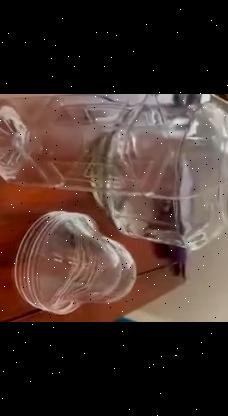Plastic Bottle: (0, 94, 228, 199)
